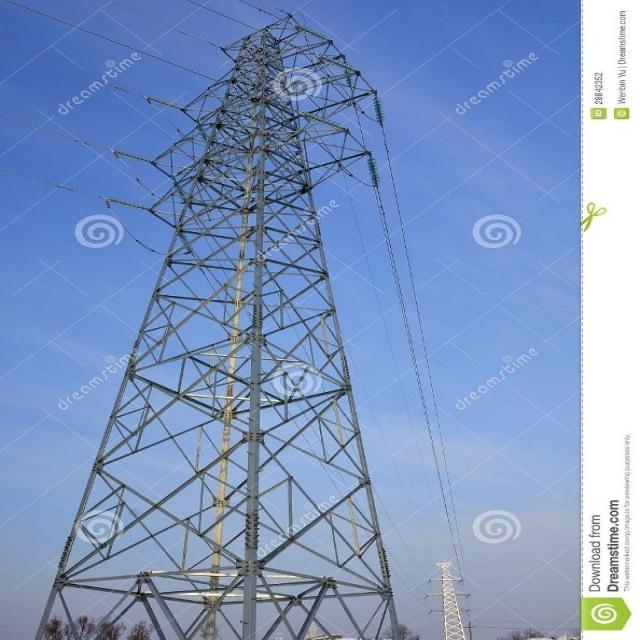non-critical vegetation: (48, 14, 420, 636)
